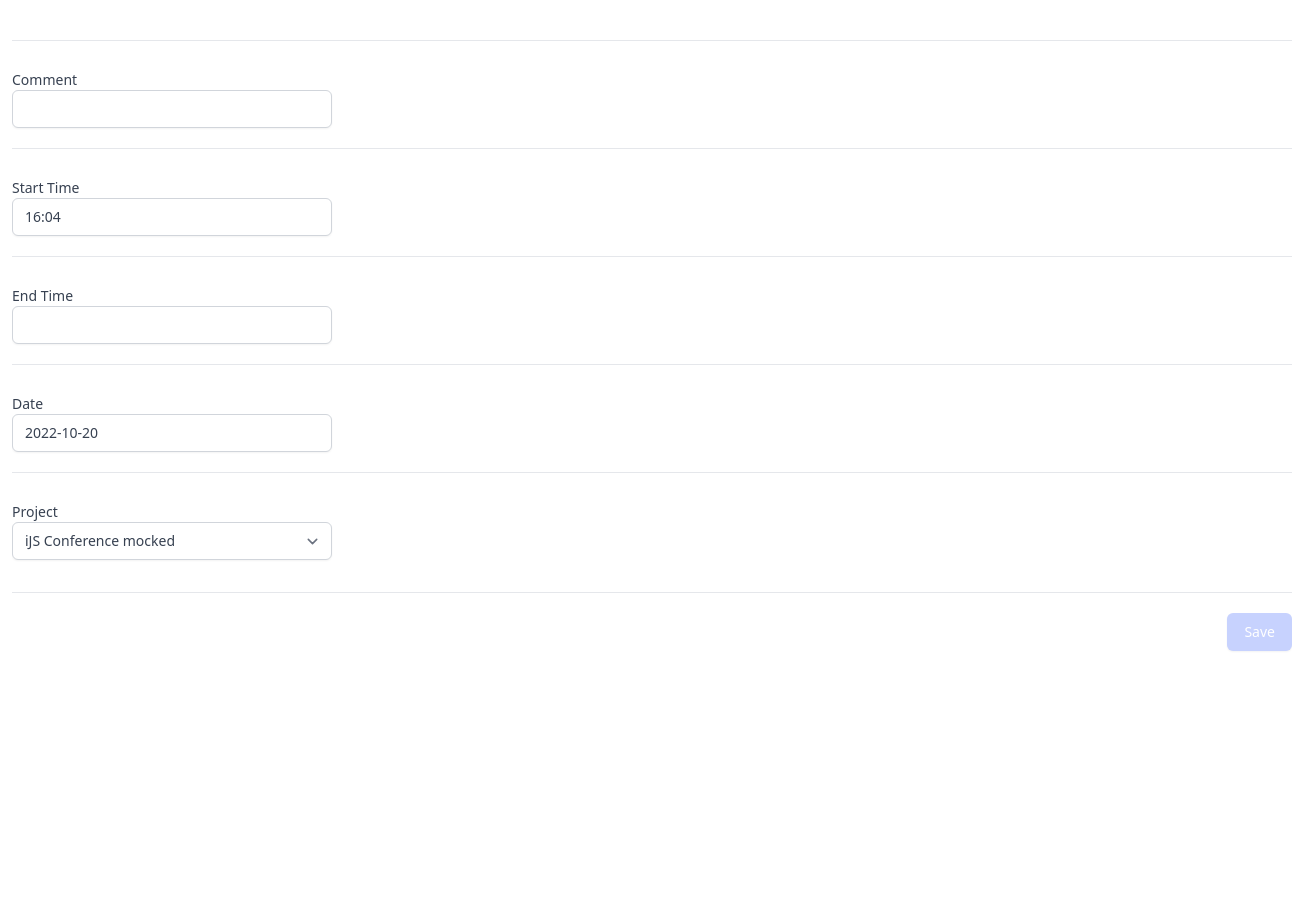
Test: <AddTimeEntryForm /> › the button should be enabled after filling the endTime
In the field labelled "End Time": (172,325) [12,306,332,344], type "13:00"
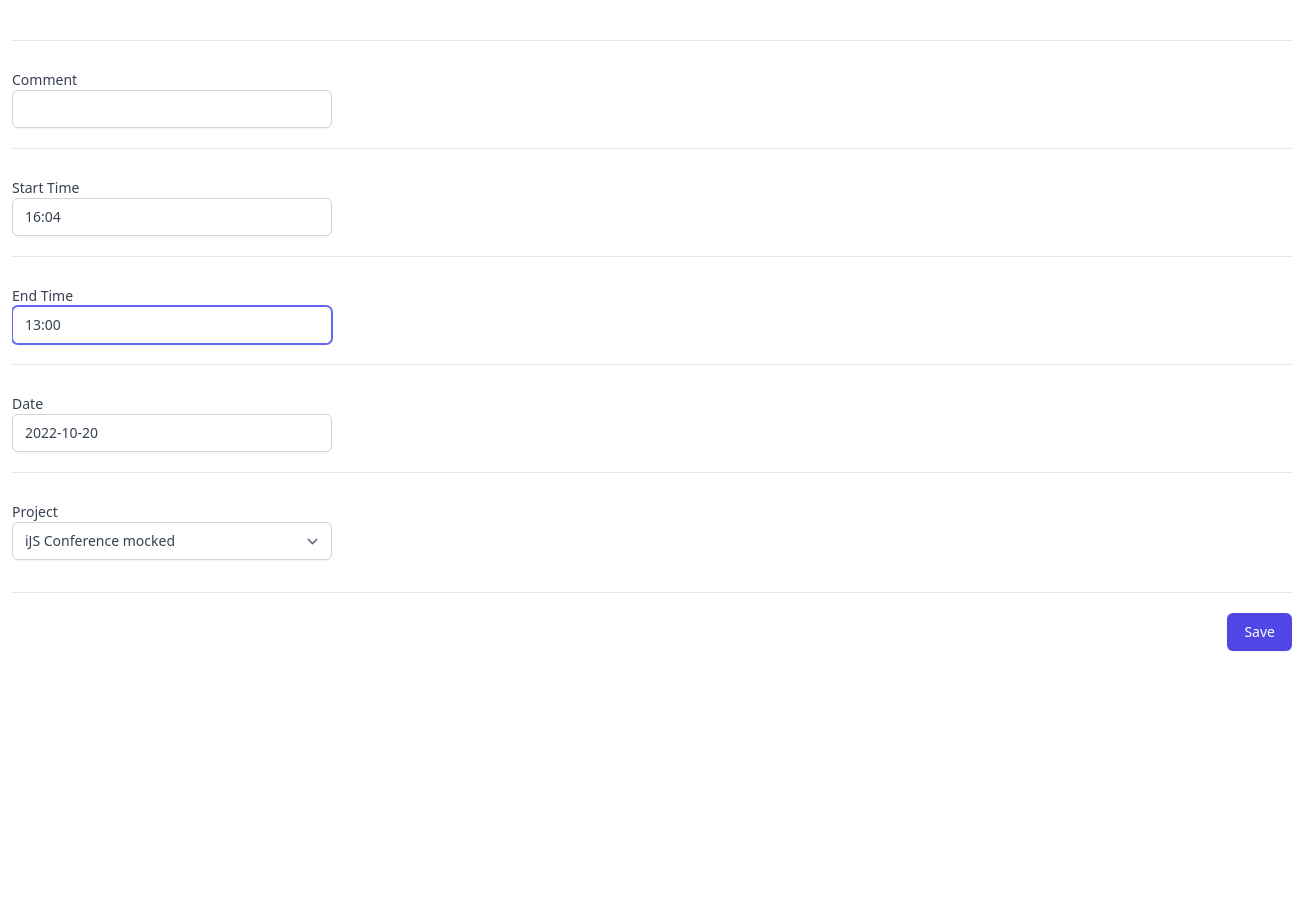
expect the button "Save" is enabled: met, box [1227,613,1292,651]
